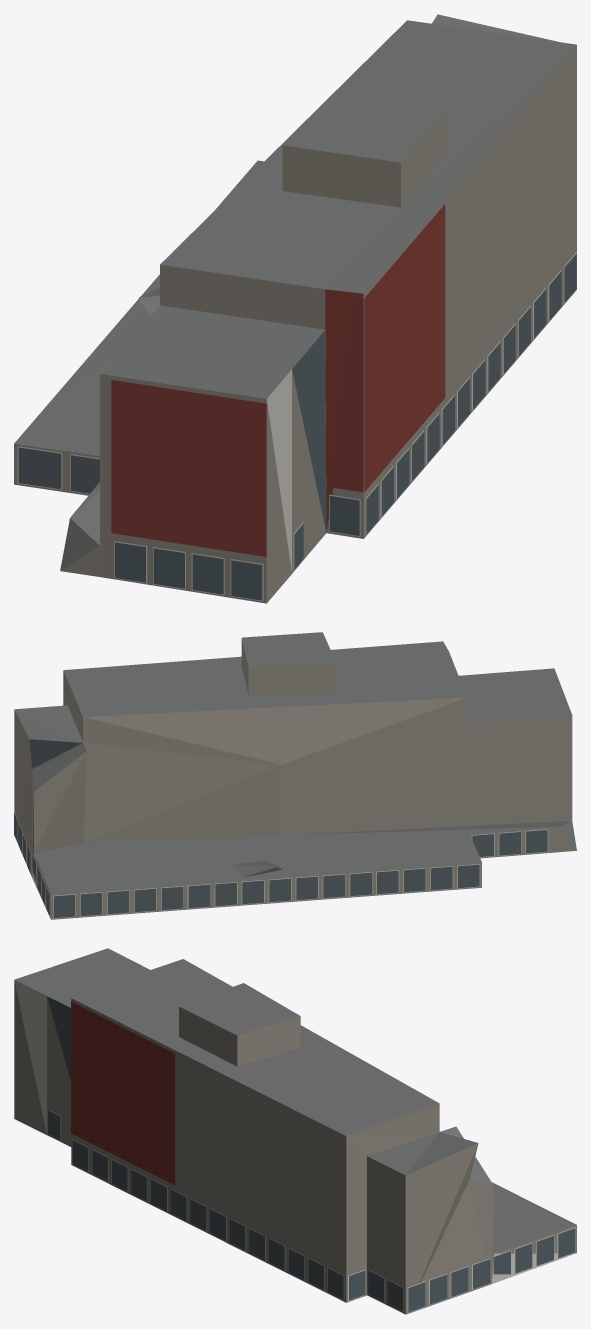
File: haparandaweg-65.lod2.glb
3 views of the same model, one above another, from view 1: azimuth 30°, elevation 25°; view 2: azimuth 150°, elevation 25°; view 3: azimuth 270°, elevation 25° (orthographic). The views are drawn at different scales.
Visible parts, largest first — view 1: lod2; view 2: lod2; view 3: lod2.
Part boxes in pixels (left/top/right/bottom): lod2: left=14, top=14, right=576, bottom=603; lod2: left=14, top=632, right=576, bottom=919; lod2: left=14, top=948, right=576, bottom=1314.
Bounding box in the file's own units: 57.33 × 22.37 × 57.74.
